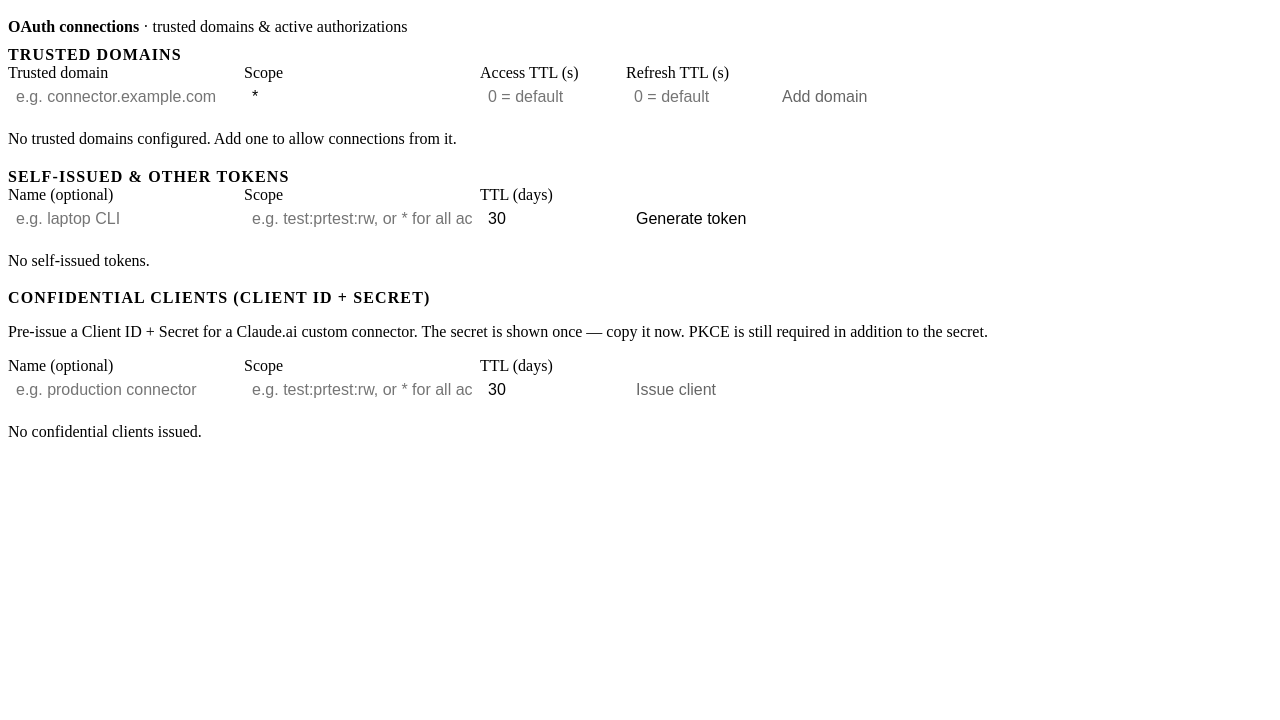
Test: ConnectionsPage › generates a CLI token and shows it once with a copy control
Expected: the text "No self-issued tokens." is shown, x1=8 y1=252 x2=150 y2=269
Expected: the text "minted-secret-value" is not shown
Click the button "Generate token" at coordinates (691, 219), box x1=626 y1=206 x2=756 y2=232
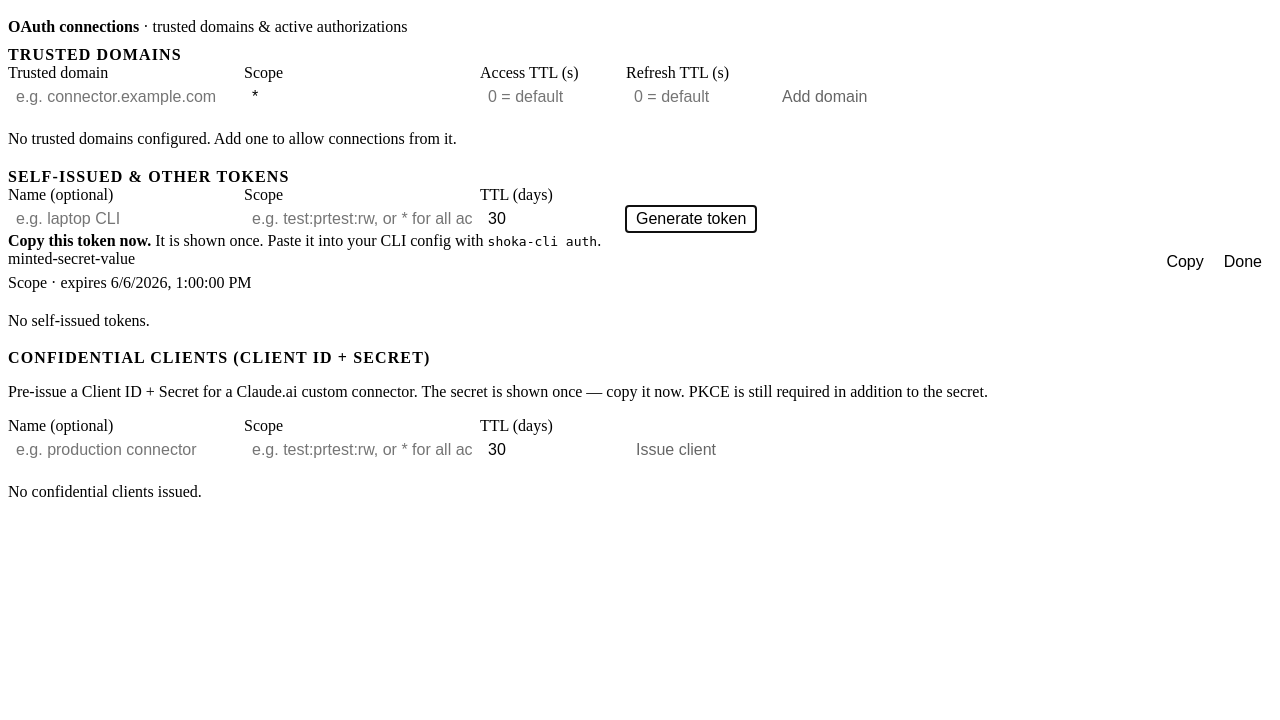
Expected: the text "minted-secret-value" is shown, x1=8 y1=250 x2=135 y2=267
Expected: the button with aria-label "Copy token" is shown, x1=1156 y1=250 x2=1214 y2=274
Note: Dismissing clears it from the page.
Click the button with aria-label "Dismiss token" at coordinates (1243, 262), box x1=1214 y1=250 x2=1272 y2=274
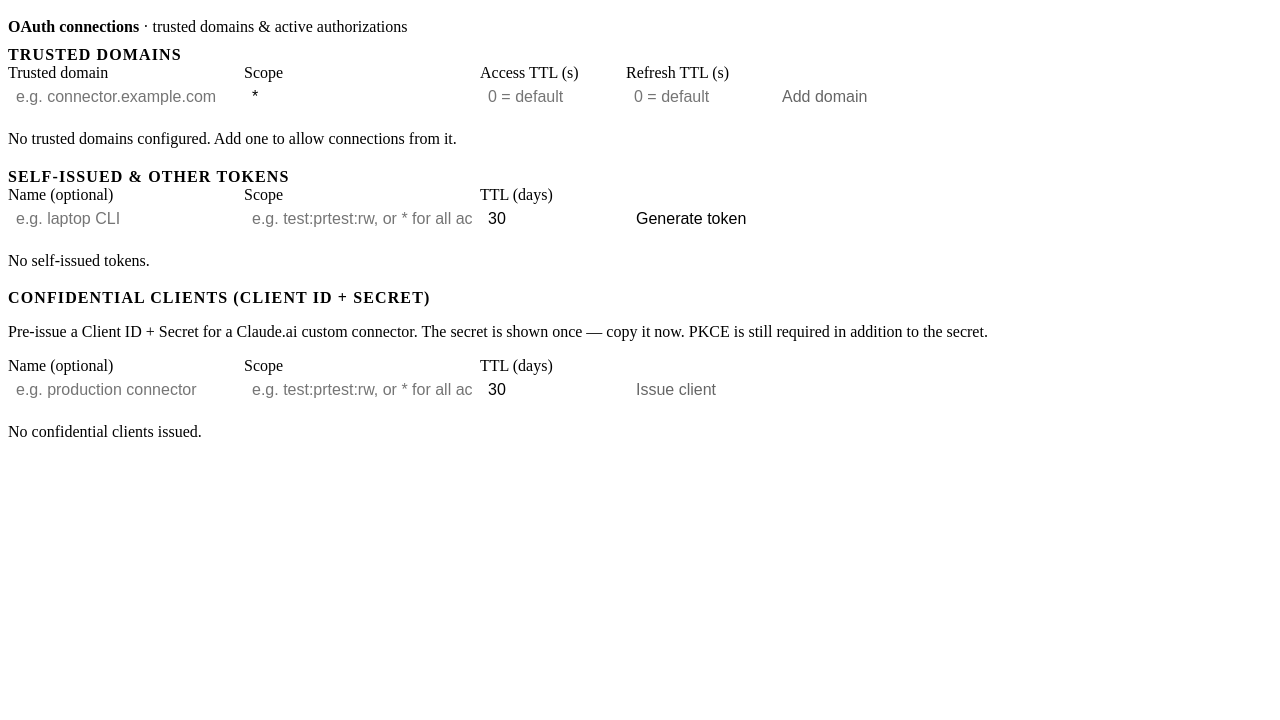
Expected: the text "minted-secret-value" is gone
